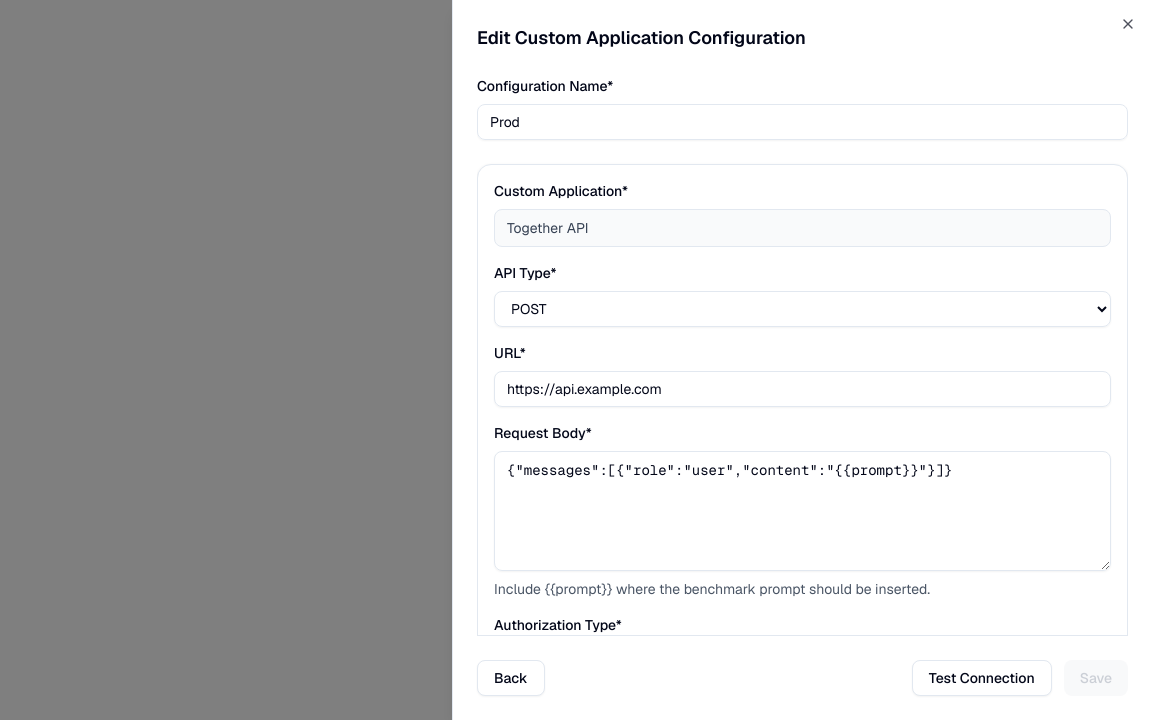
Scenario: EditCustomApplicationSheet › sets response path when clicking a connection test leaf path
Step 1. Click the button "Test Connection" → (982, 678), box [912,660,1052,696]
(page scrolled)
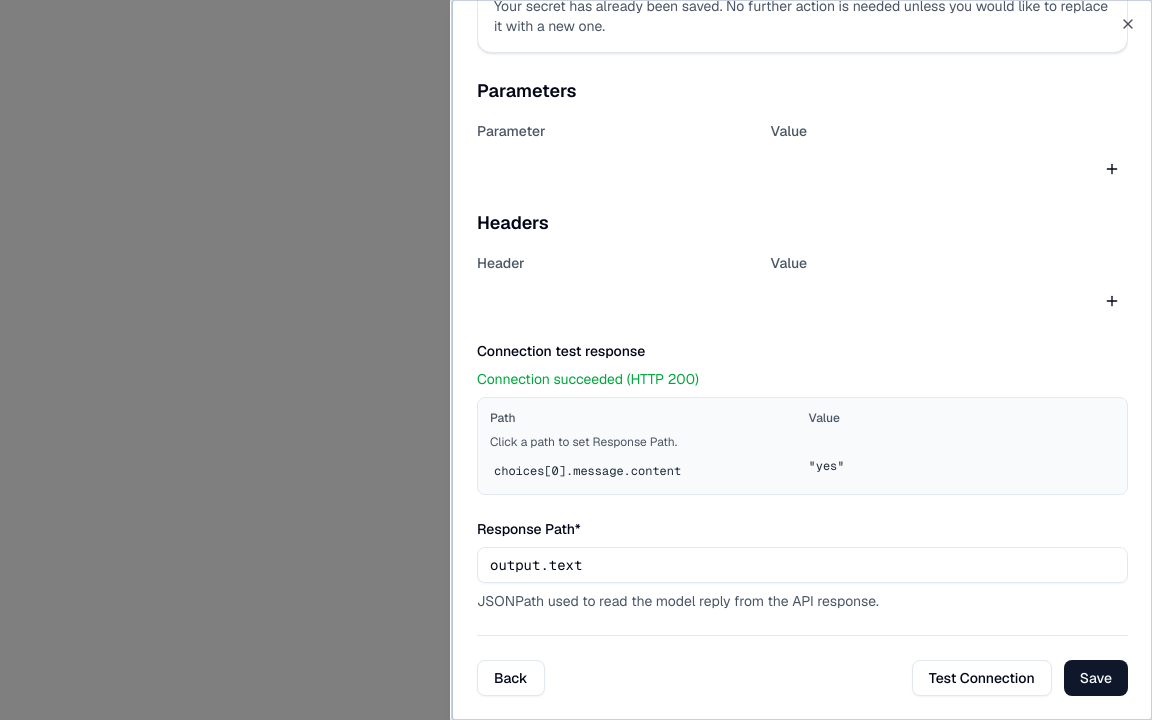
Step 2. Click the button "choices[0].message.content" → (643, 471), box [490,461,796,481]
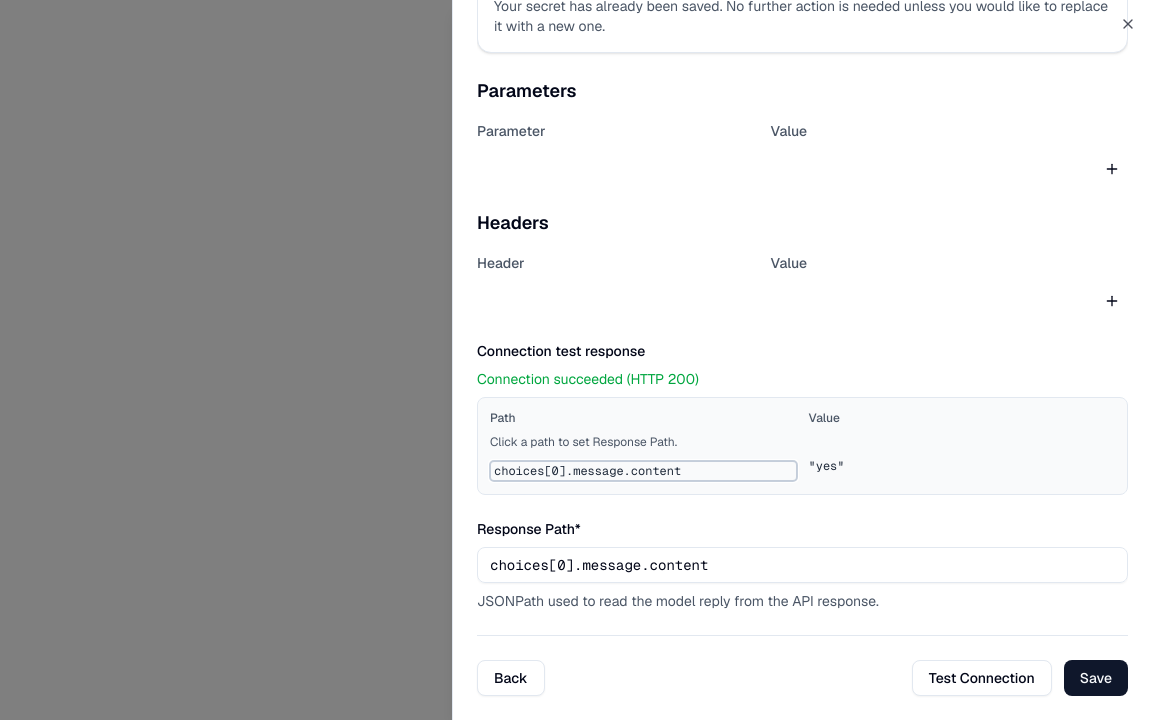
Expected: the field labelled "Response Path*" holds "choices[0].message.content", [477,547,1128,583]
